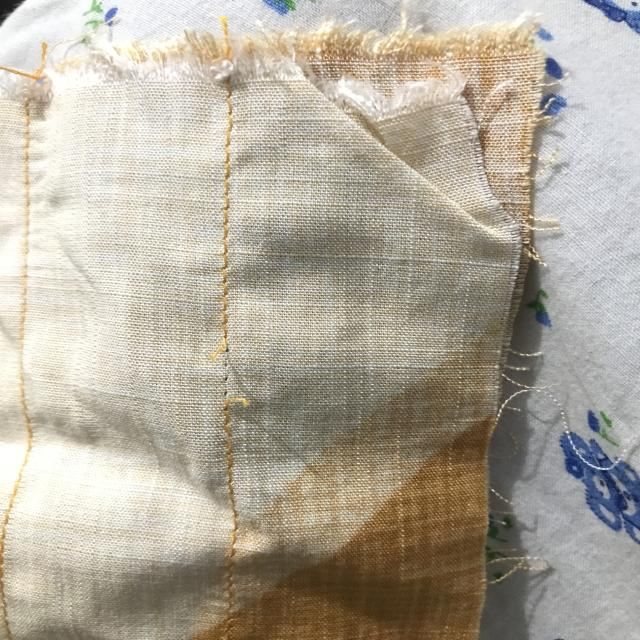broken: (173, 335, 264, 431)
good: (217, 178, 243, 287)
